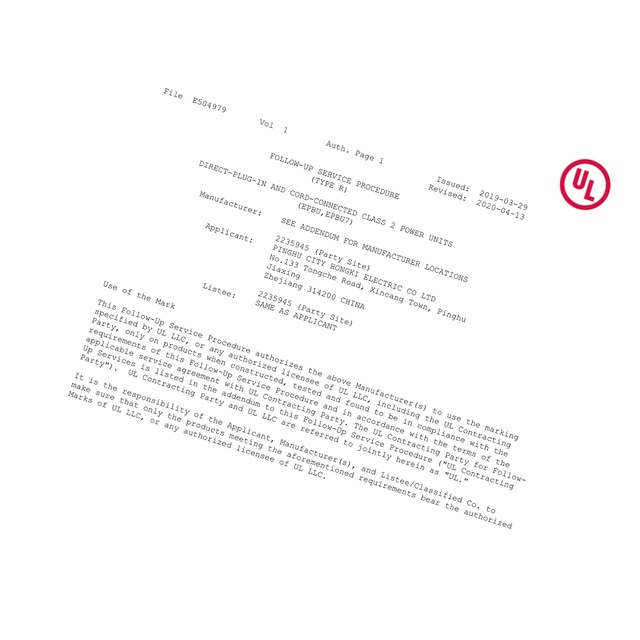ul: (557, 156, 612, 211)
